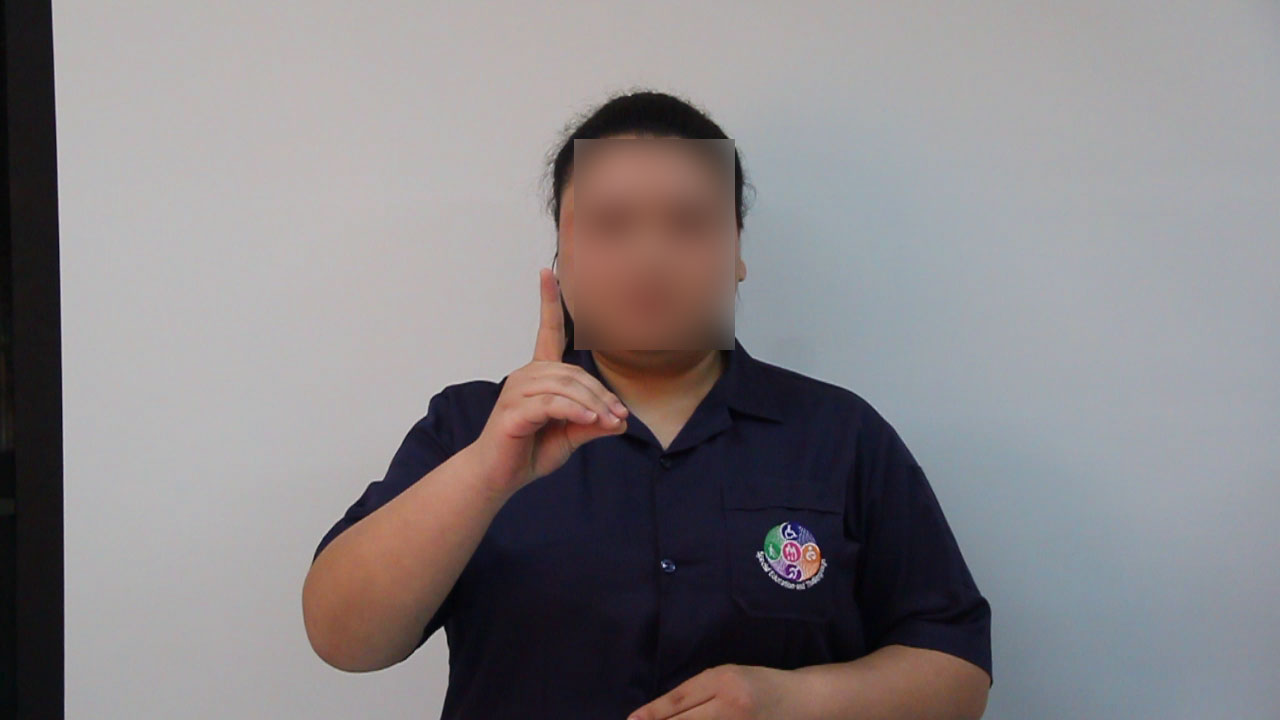dor: (477, 261, 640, 498)
